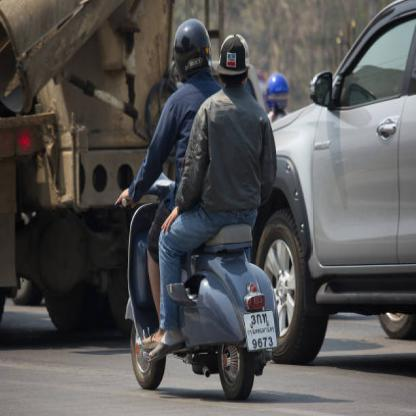Motorcycle: (119, 156, 269, 392)
